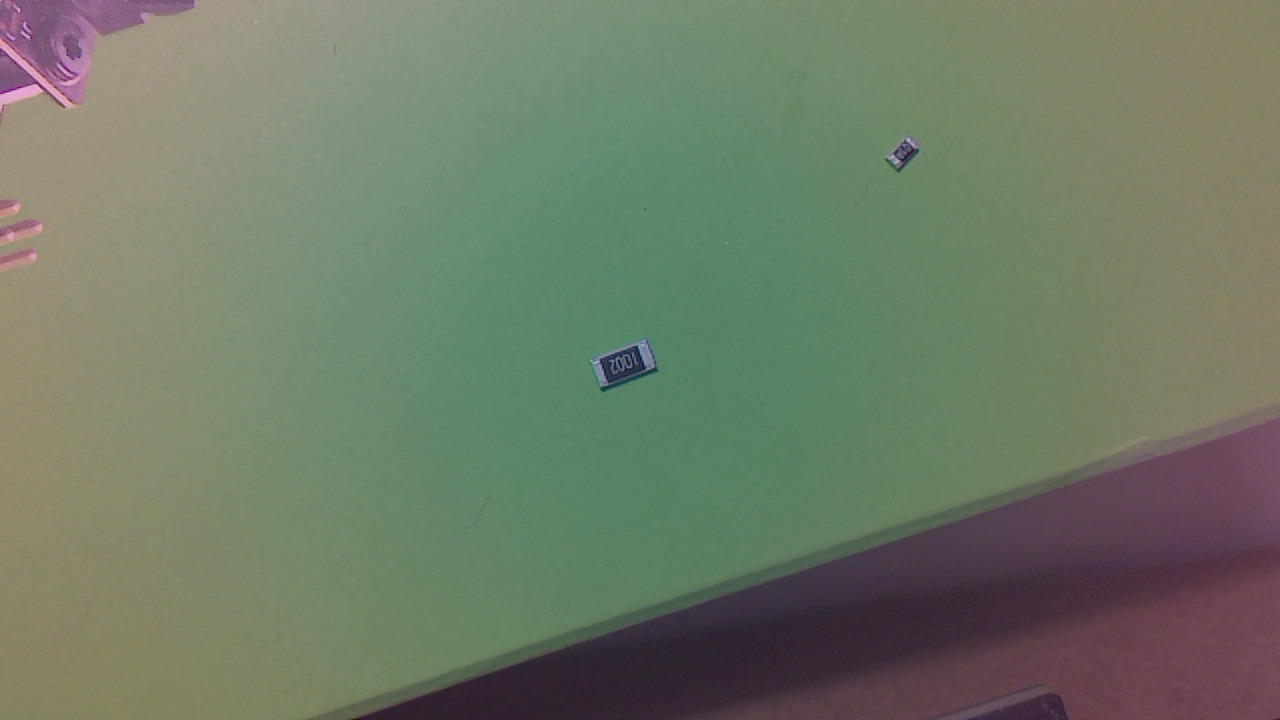Resistor: (594, 341, 664, 397), (893, 140, 925, 178)
